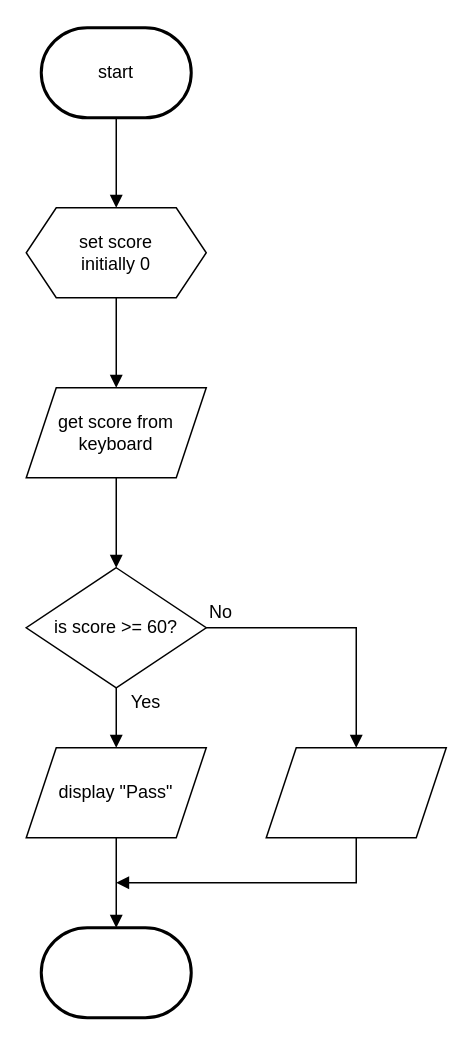
This 473x1044 diagram has some shape labels left out. Here are the shapes that lost their labels. From the top down, the centre of each, then its label:
(x=355, y=792): display "Fail"
(x=115, y=972): end
